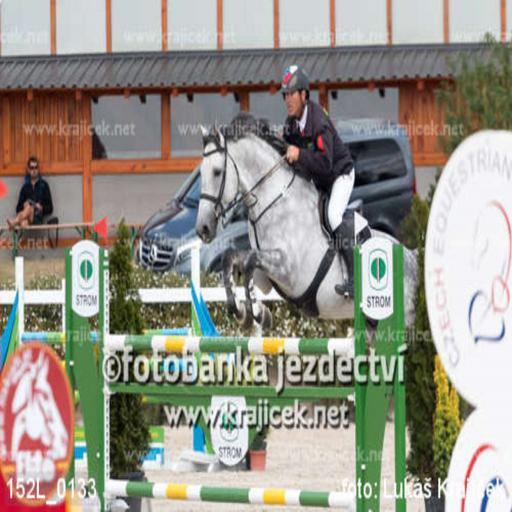horse: (194, 112, 426, 340), (0, 343, 71, 460)
